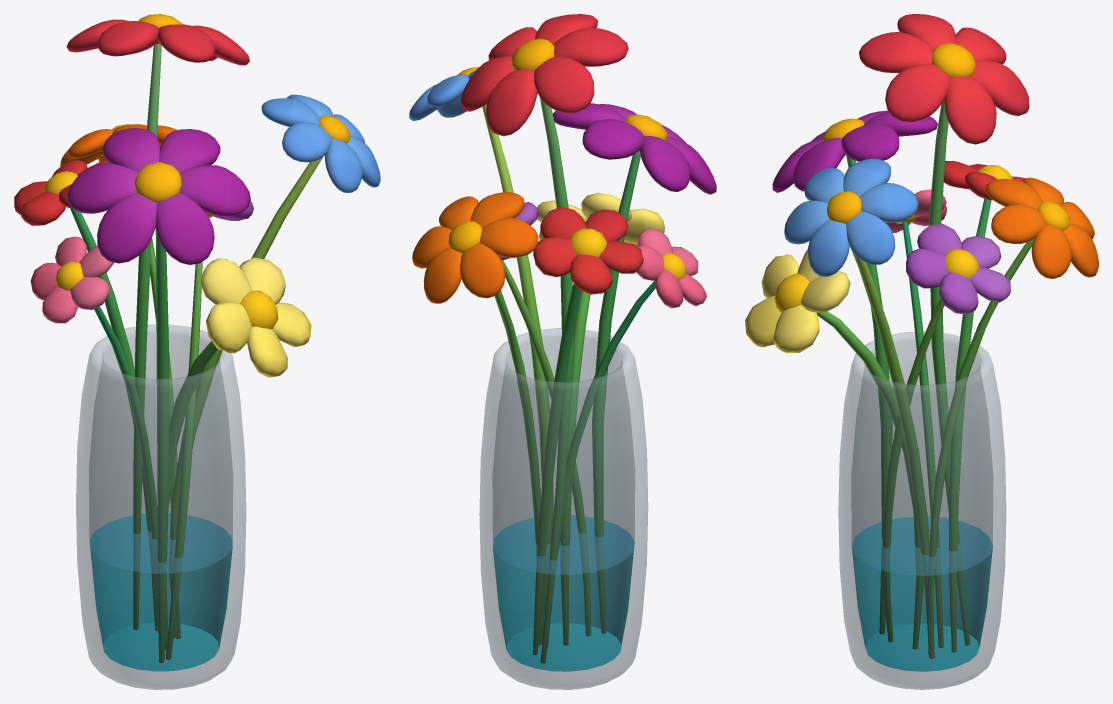
The model's file is Plants_07.glb.
3 renders of one model, left to right at view 1: azimuth 30°, elevation 25°; view 2: azimuth 150°, elevation 25°; view 3: azimuth 270°, elevation 25°, orthographic. The views are drawn at different scales.
Visible parts, largest first — view 1: Plants_07; view 2: Plants_07; view 3: Plants_07.
Boxes of the visible parts, bbox=[...] form: Plants_07: bbox=[14, 14, 380, 689]; Plants_07: bbox=[409, 14, 716, 689]; Plants_07: bbox=[745, 14, 1098, 689].
Size of the model in its own units: 0.4157 by 0.8385 by 0.4252.
Materials: 2 (2 with a texture image).
